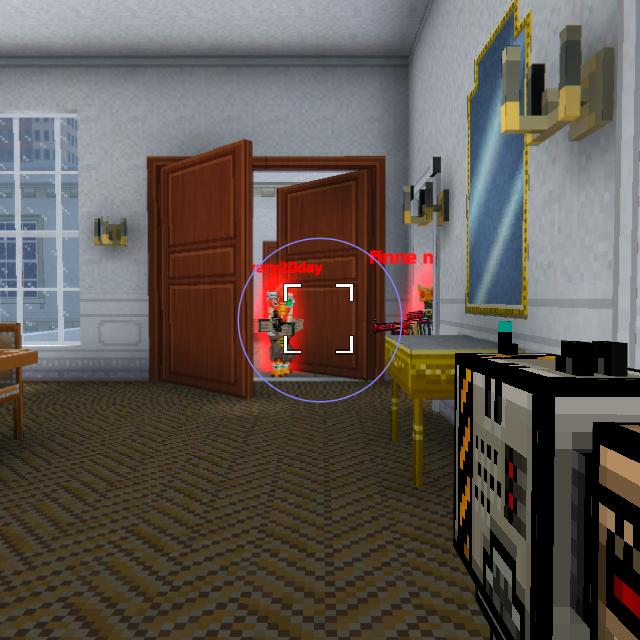Enemy: (257, 291, 304, 378), (406, 283, 432, 336)
